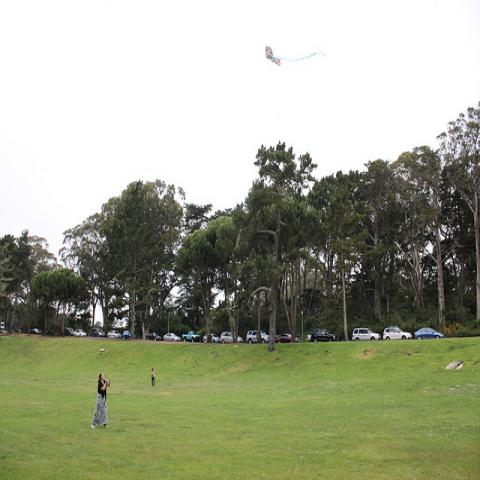car: (74, 329, 300, 343), (412, 328, 444, 342), (310, 329, 339, 343), (382, 327, 413, 340), (350, 328, 378, 342), (246, 330, 269, 345), (220, 332, 243, 344), (203, 333, 220, 343)
truck: (351, 327, 382, 342), (307, 329, 336, 342), (246, 330, 270, 344), (219, 331, 243, 342), (182, 331, 200, 343), (30, 328, 42, 334)
